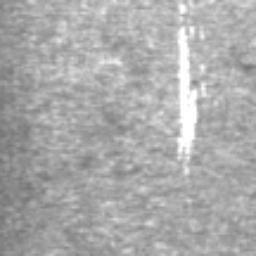White rust: (174, 24, 207, 175), (178, 1, 189, 15), (199, 24, 206, 39), (199, 63, 206, 75)
